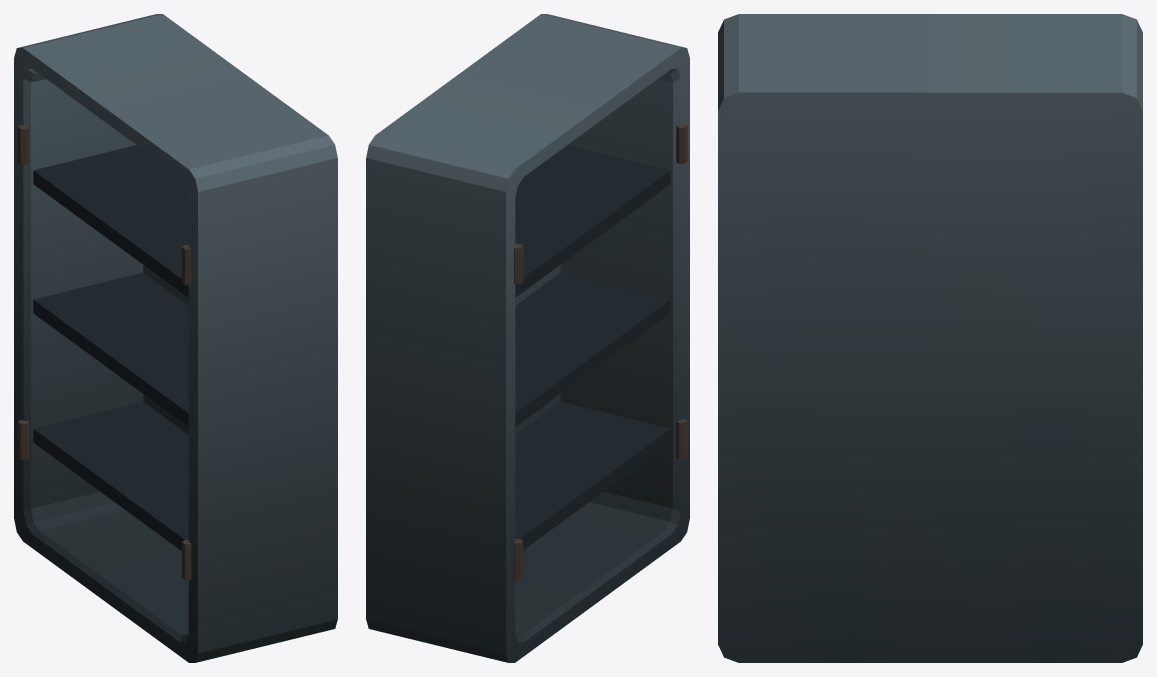
File: SM_Shelf.fbx
3 views of the same model, side by side, from view 1: azimuth 30°, elevation 25°; view 2: azimuth 150°, elevation 25°; view 3: azimuth 270°, elevation 25° (orthographic). The views are drawn at different scales.
Visible parts, largest first — view 1: SM_Shelf; view 2: SM_Shelf; view 3: SM_Shelf.
Part boxes in pixels (<box>): SM_Shelf: <box>14,14,337,662</box>; SM_Shelf: <box>366,14,689,662</box>; SM_Shelf: <box>718,14,1142,662</box>.
Bounding box in the file's own units: 0.4979 × 1.09 × 1.62.
